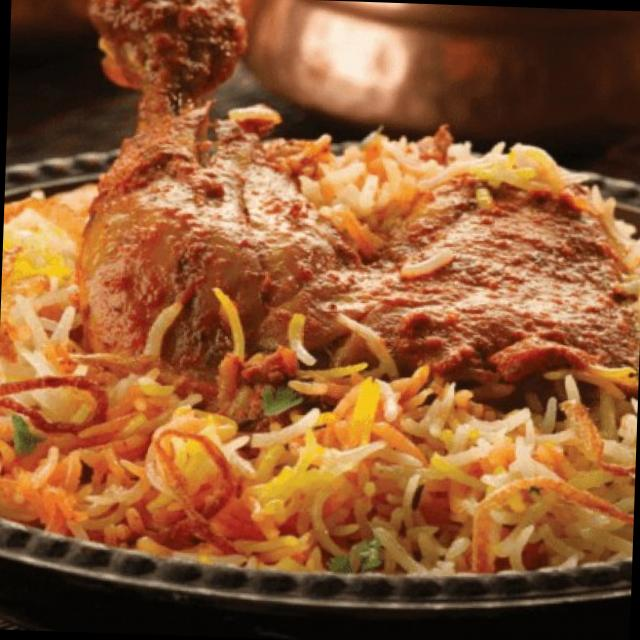Biryani: (0, 110, 640, 579)
